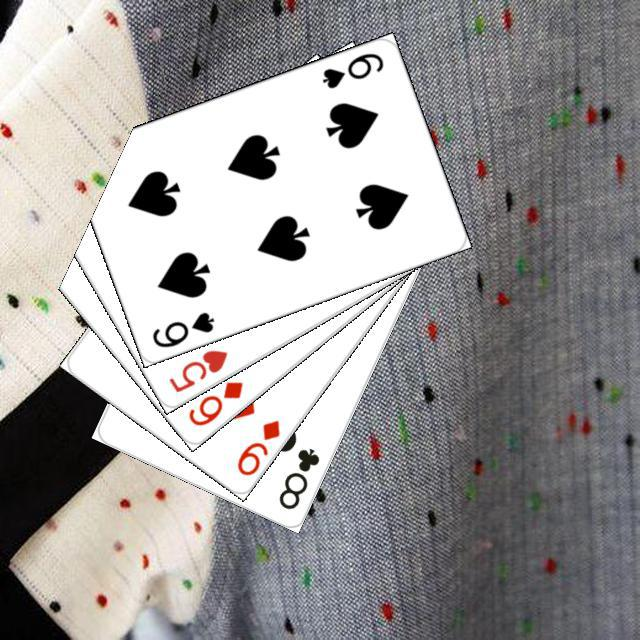5h: (163, 344, 230, 394)
6d: (183, 376, 245, 428)
6s: (147, 307, 216, 350), (317, 48, 386, 91)
8c: (273, 443, 322, 512)
9d: (231, 414, 282, 478)
